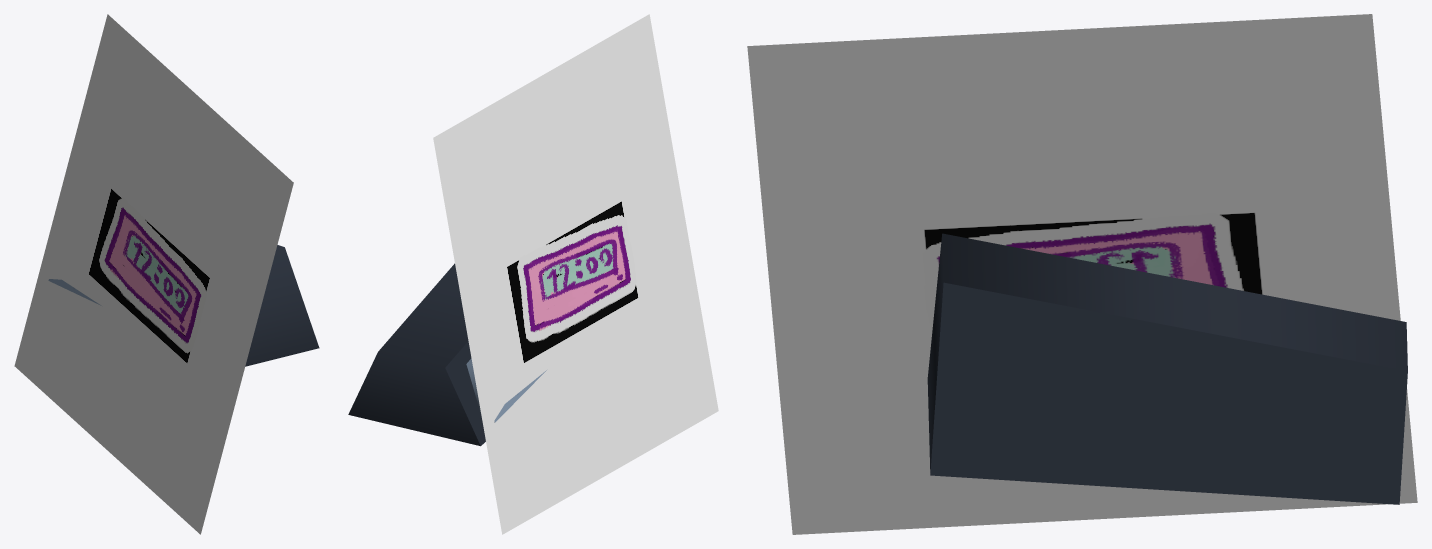
File: RELOJ.fbx
3 renders of one model, left to right at view 1: azimuth 30°, elevation 25°; view 2: azimuth 150°, elevation 25°; view 3: azimuth 270°, elevation 25°, orthographic. The views are drawn at different scales.
Visible parts, largest first — view 1: Plane.006, reloj; view 2: Plane.006, reloj; view 3: Plane.006, reloj.
Boxes of the visible parts, left/top/right/bottom form: Plane.006: left=14, top=14, right=293, bottom=534; reloj: left=48, top=245, right=319, bottom=366; Plane.006: left=433, top=14, right=718, bottom=534; reloj: left=348, top=263, right=546, bottom=446; Plane.006: left=747, top=14, right=1417, bottom=534; reloj: left=927, top=233, right=1407, bottom=504.
Size of the model in its own units: 95.6 by 208 by 214.
2 materials, 2 textured.
